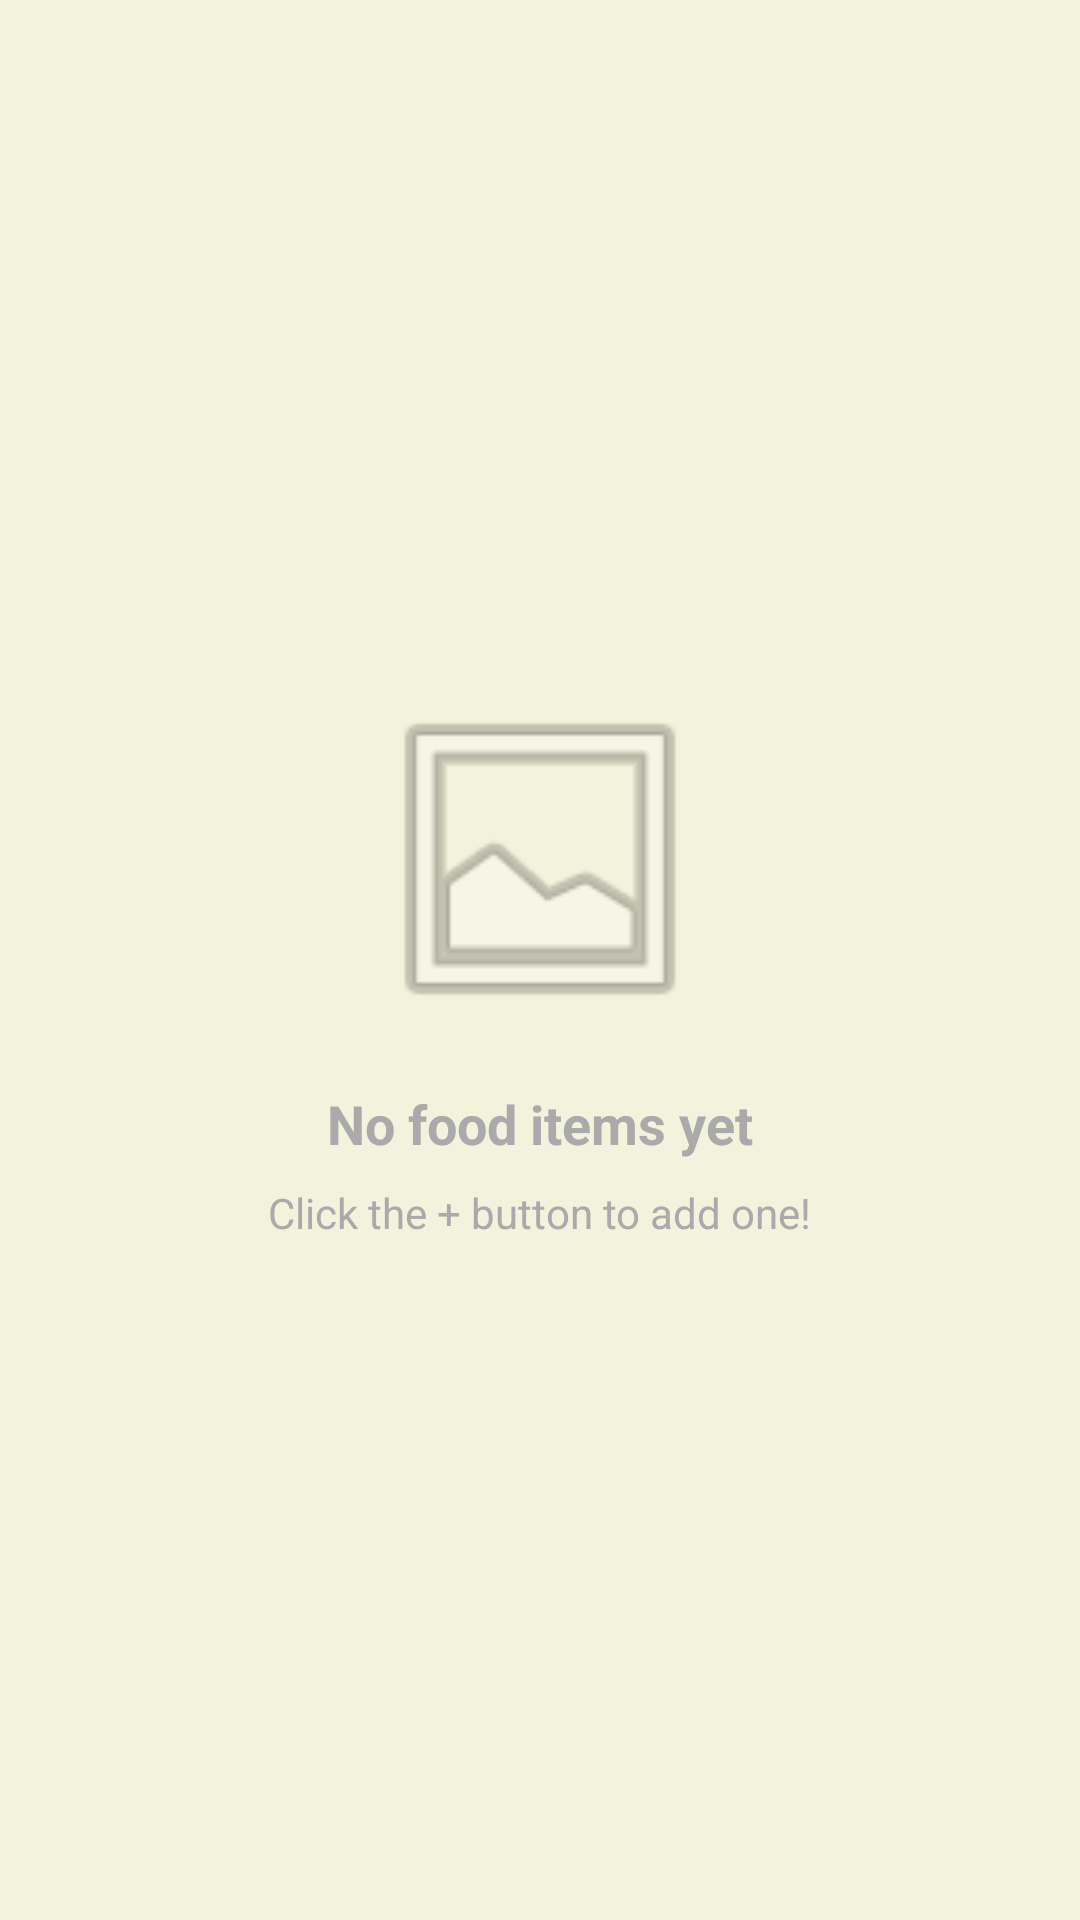

Point at icon controls on the screen. Image size 1080×1920, points as (x,y).
gallery: (540,859)
